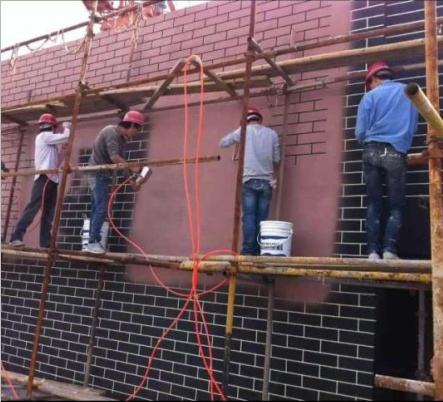red: (363, 58, 393, 89), (118, 109, 143, 138), (38, 113, 58, 135), (241, 106, 261, 124)
